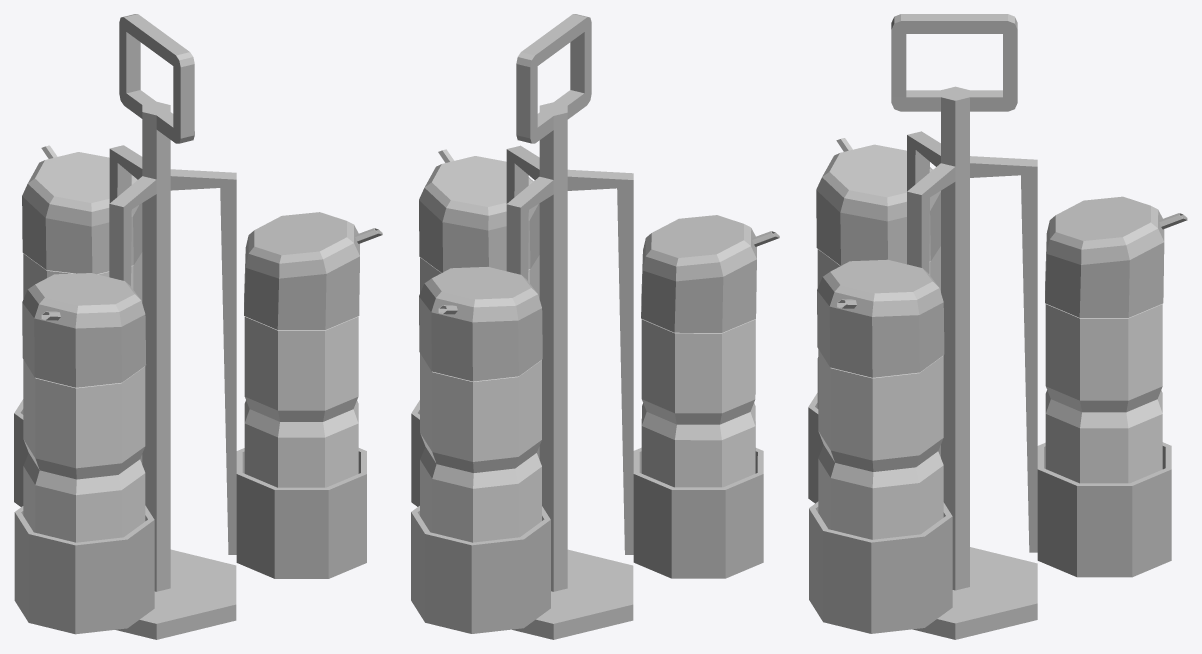
Rendered from R_Cruet.fbx.
The picture shows the model from 3 angles, left to right: view 1: azimuth 30°, elevation 25°; view 2: azimuth 150°, elevation 25°; view 3: azimuth 270°, elevation 25°; orthographic projection. The views are drawn at different scales.
Visible parts, largest first — view 1: R_Cruet; view 2: R_Cruet; view 3: R_Cruet.
Boxes of the visible parts, x1,y1,x2,y2 form: R_Cruet: (14,14,382,639); R_Cruet: (411,14,779,639); R_Cruet: (808,14,1187,639).
Bounding box in the file's own units: 143 × 134 × 226.
